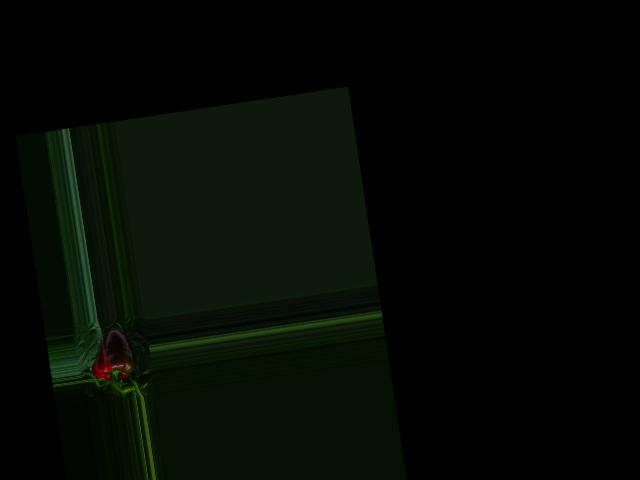bell_pepper: (83, 321, 143, 389)
